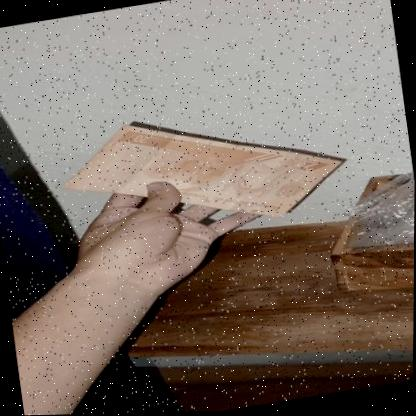twenty-back-vef: (54, 90, 352, 253)
